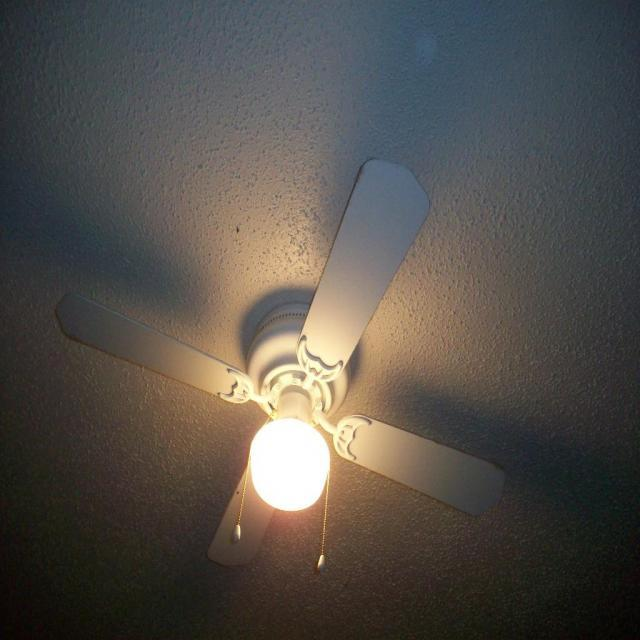bulb_on: (244, 415, 338, 512)
fan_off: (56, 157, 503, 564)
